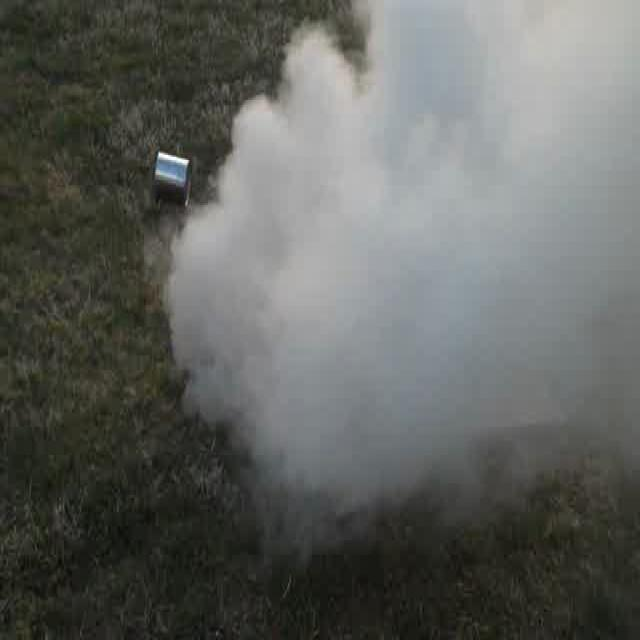Smoke: (214, 11, 640, 524)
